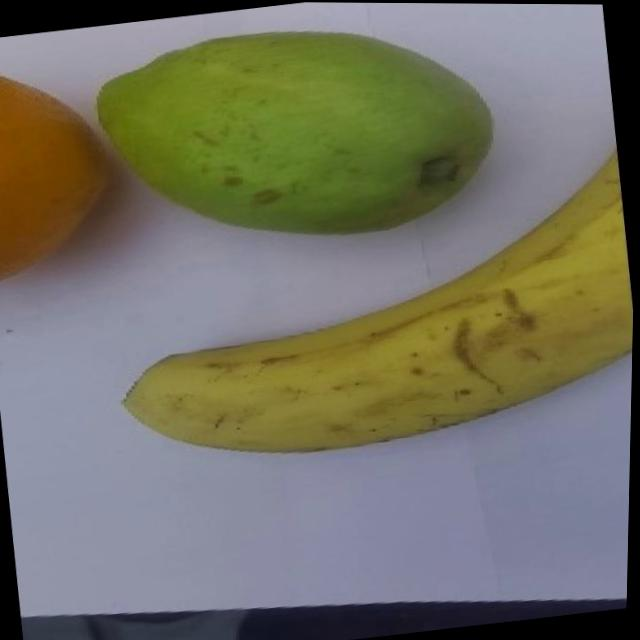Banana: (98, 146, 637, 478)
Orange: (0, 51, 125, 287)
